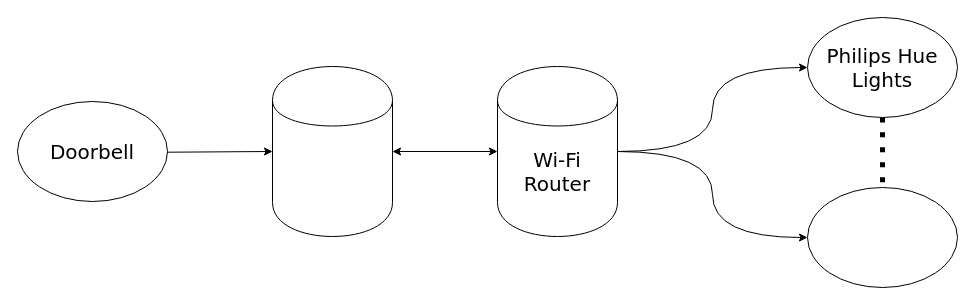
The diagram is 975 pixels wide and 305 high, and some of its shapes have lost their labels. Each missing label, with the centre of its shape:
"Other Devices" goes at pixel 882 237.
"Raspberry Pi Zero" goes at pixel 332 151.
